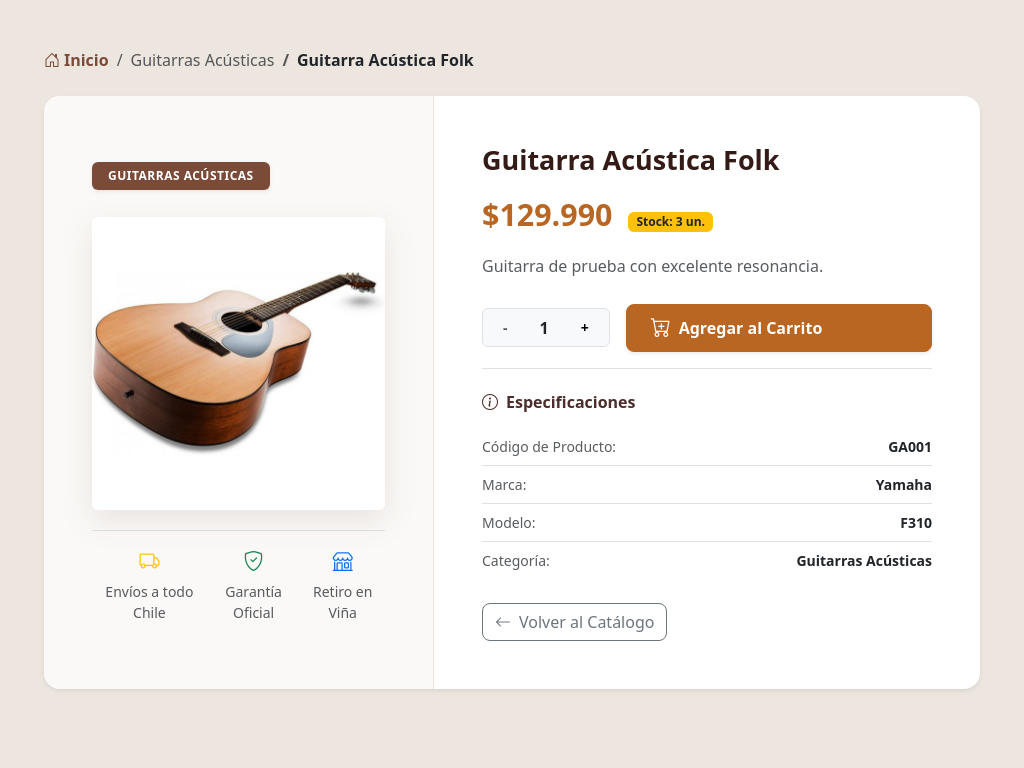
Página DetalleProducto - Cobertura Completa › permite incrementar y decrementar la cantidad con los botones + y - respetando los limites
The width and height of the screenshot is (1024, 768).
Expected: the button "-" is disabled, [487, 313, 524, 342]
Expected: the text "1" is shown, [540, 316, 549, 338]
# Subir a 2
Step 1. Click the button "+" → (585, 328), box [565, 313, 605, 342]
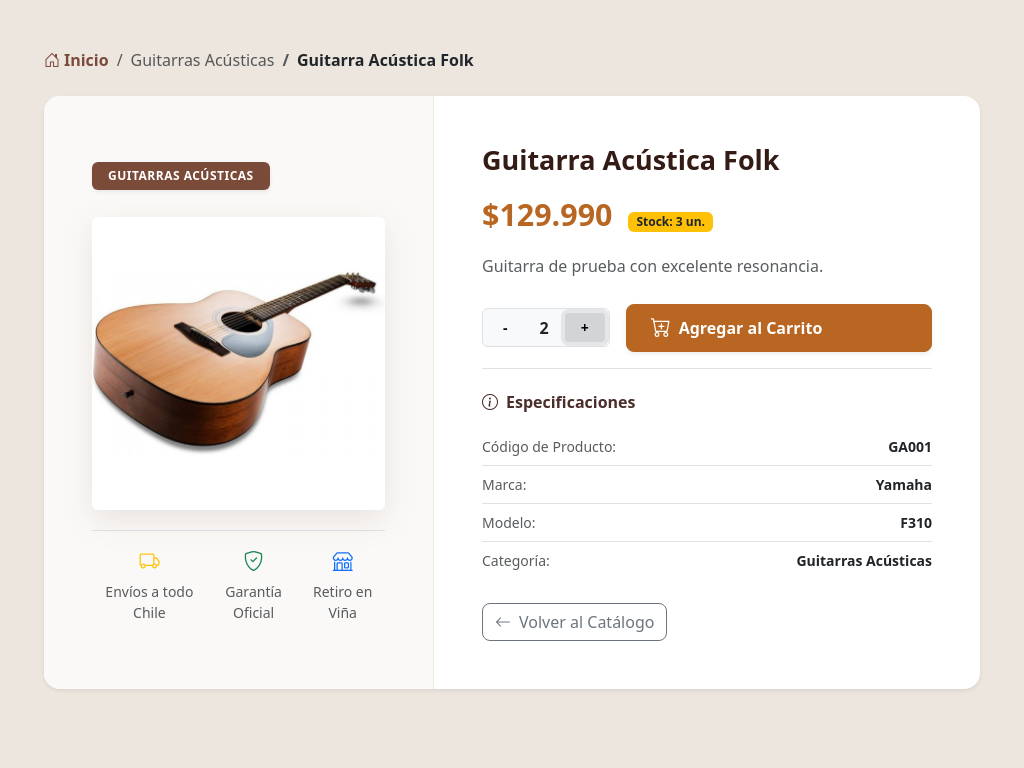
Expected: the button "-" is enabled, [487, 313, 524, 342]
Now the text "2" is shown, box [540, 316, 549, 338]
# Subir a 3 (máximo)
Step 2. Click the button "+" → (585, 328), box [565, 313, 605, 342]
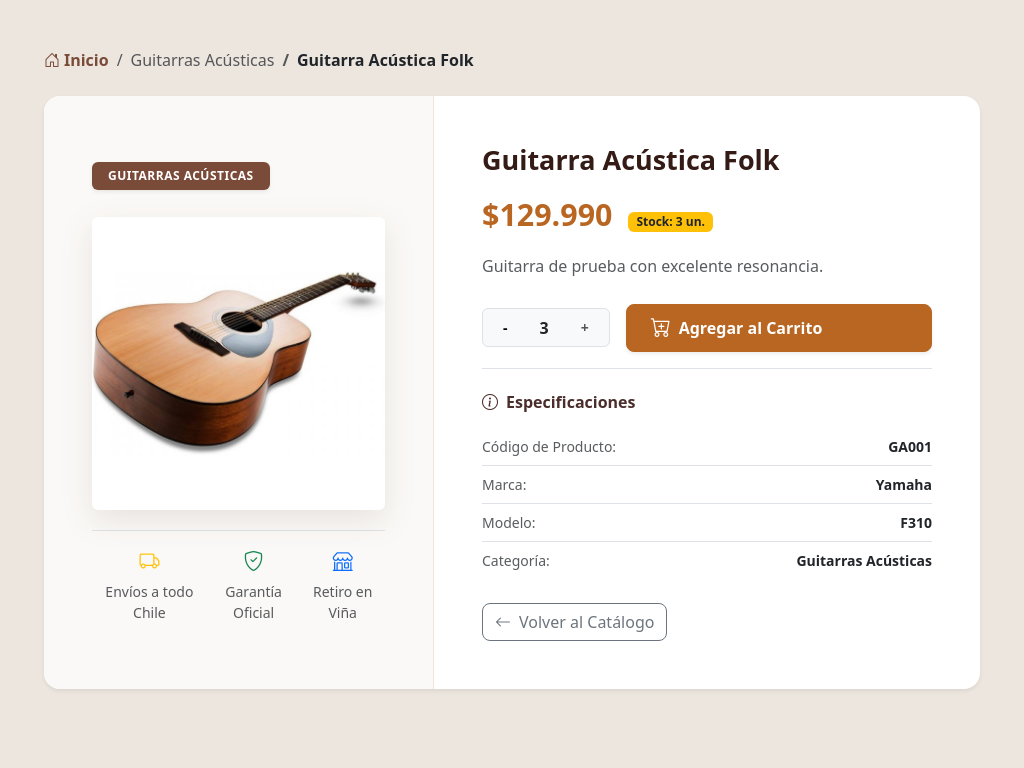
Expected: the text "3" is shown, [540, 316, 549, 338]
Now the button "+" is disabled, box [565, 313, 605, 342]
# Bajar a 2
Step 3. Click the button "-" → (505, 328), box [487, 313, 524, 342]
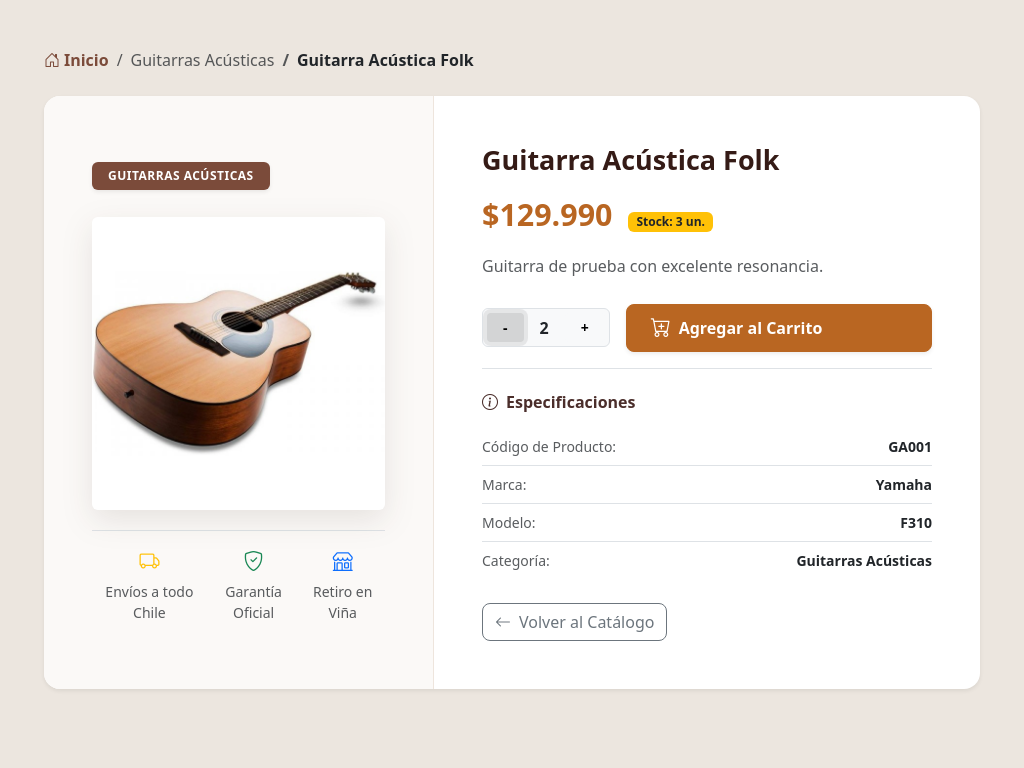
Now the text "2" is shown, box [540, 316, 549, 338]
